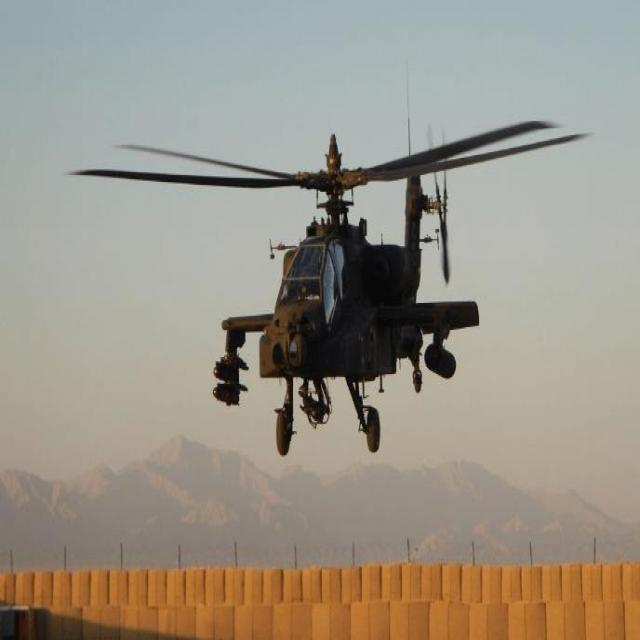MIL_HELO: (61, 107, 590, 460)
